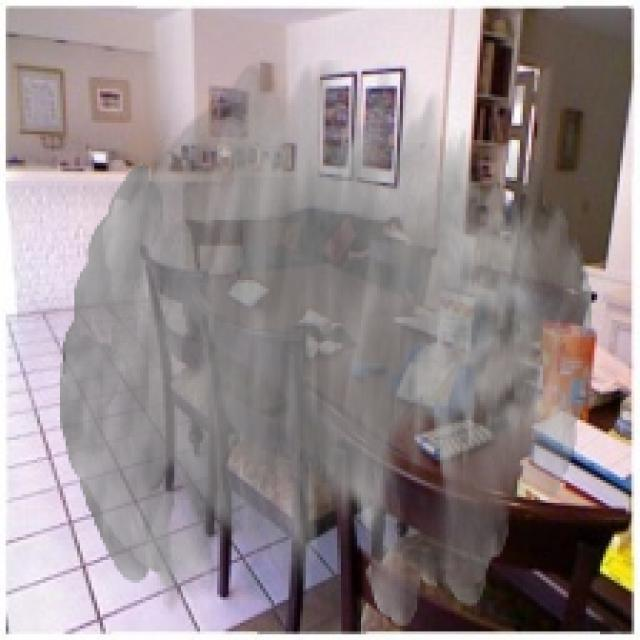Smoke: (60, 60, 594, 629)
